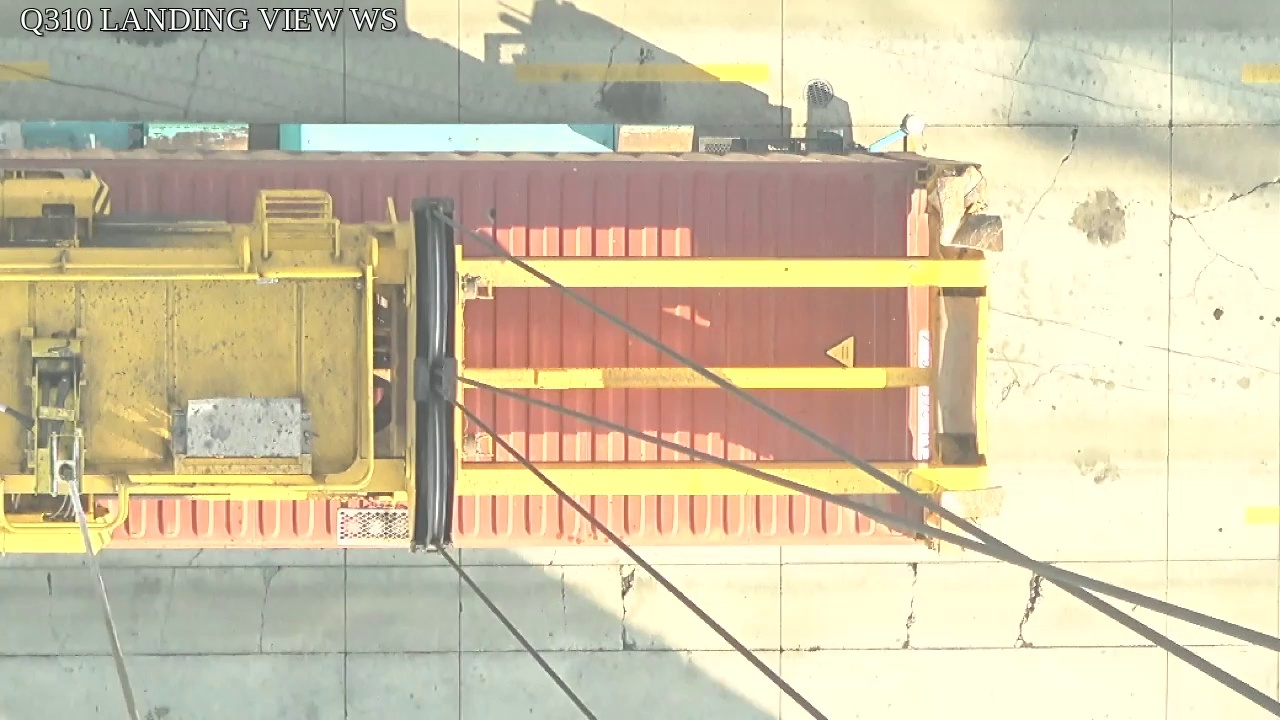right: (401, 195, 466, 556)
